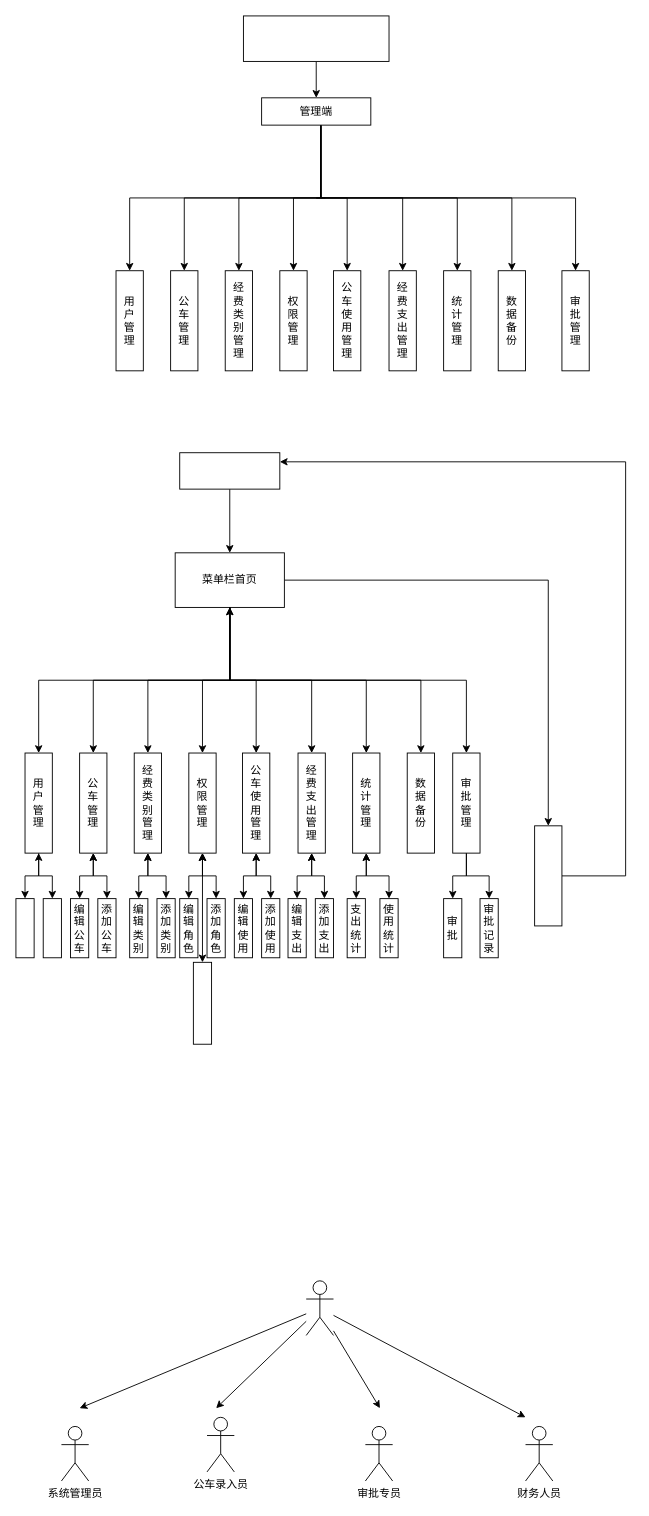
The diagram is 649 pixels wide and 1516 high, and some of its shapes have lost their labels. The centre of each missing label's shape, as x and y in pixels:
"公车后台管理系统" belongs at pixel 316 38.
"添 加 用 户" belongs at pixel 51 928.
"用户登录页面" belongs at pixel 229 470.
"用户角色分配" belongs at pixel 202 1002.
"编 辑 用 户" belongs at pixel 24 928.
"超级管理员" belongs at pixel 319 1307.
"退 出 登 录" belongs at pixel 548 875.
